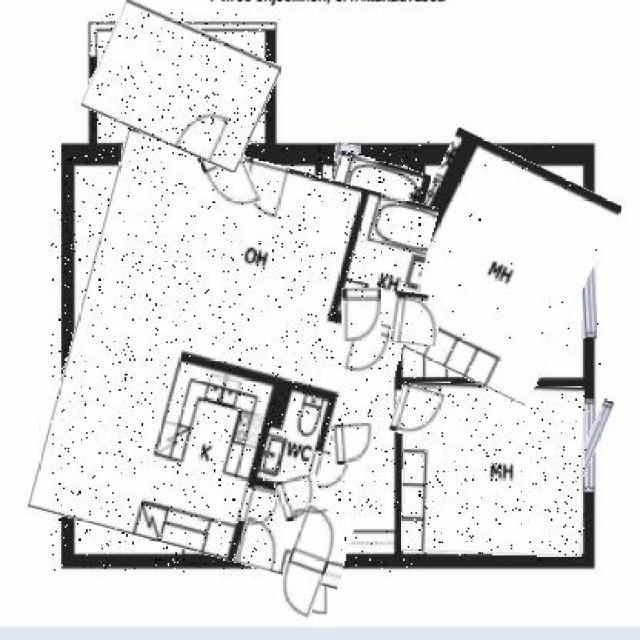door: (51, 145, 417, 572), (382, 142, 602, 392), (402, 383, 584, 555), (89, 13, 274, 158), (314, 157, 423, 292), (277, 366, 348, 469)
window: (188, 97, 250, 214), (280, 504, 337, 618), (392, 385, 442, 440), (391, 292, 440, 346), (277, 475, 323, 520), (342, 288, 380, 342), (332, 423, 376, 465)
zone: (55, 408, 83, 506), (576, 398, 604, 492), (120, 143, 197, 165), (580, 243, 597, 339), (335, 143, 357, 163)
